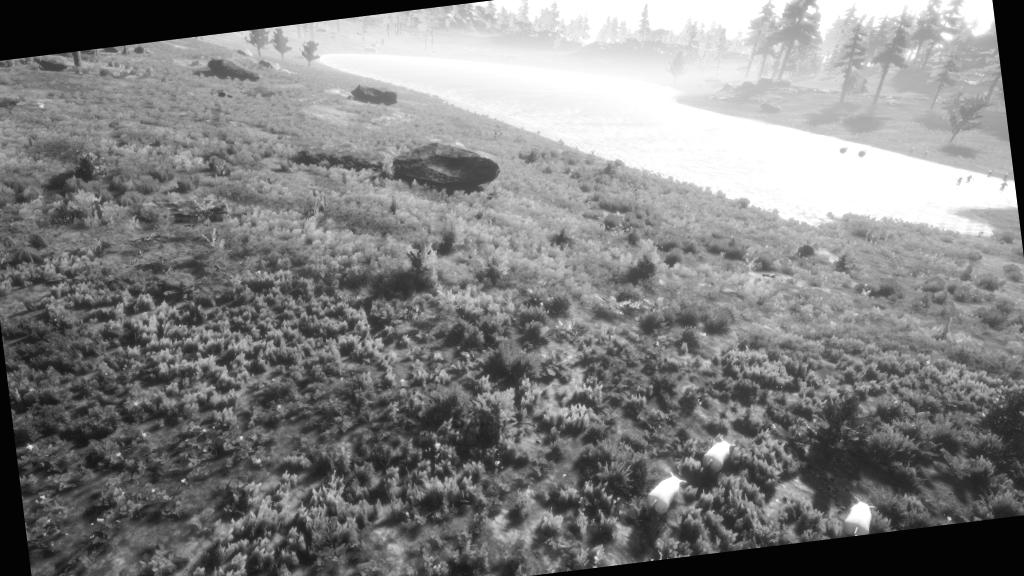pig: (639, 468, 696, 520), (698, 435, 740, 479), (838, 494, 881, 536)
